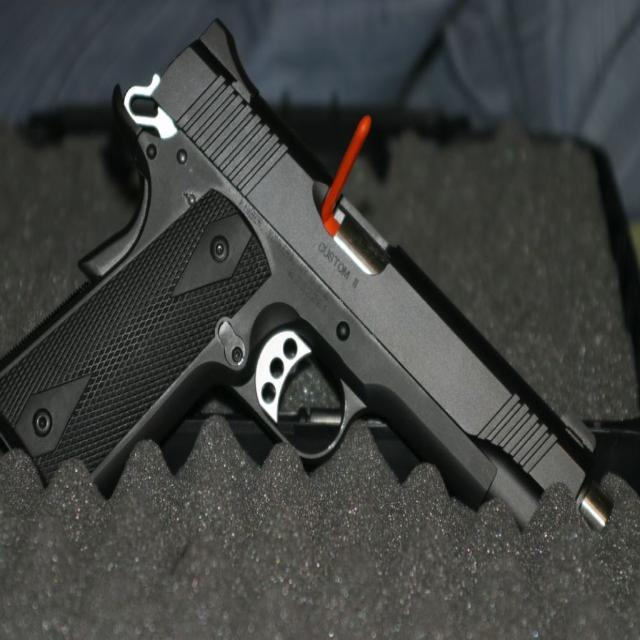Gun: (0, 20, 638, 533)
